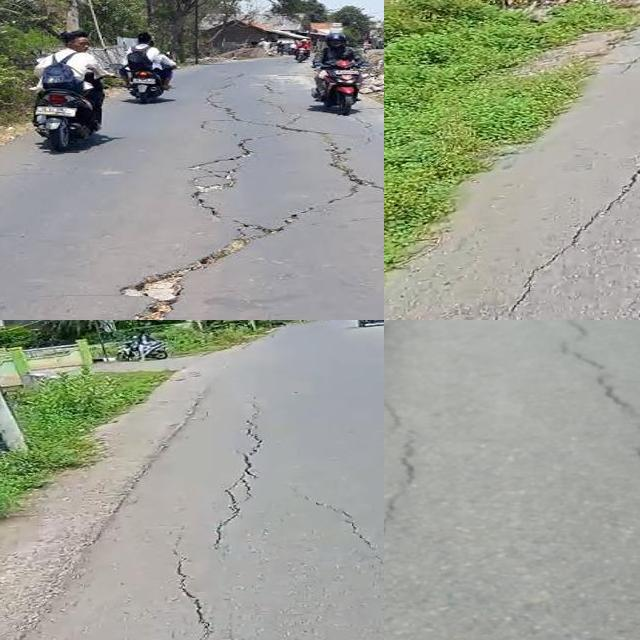Memanjang: (103, 175, 366, 320), (478, 142, 640, 320), (540, 320, 640, 478), (202, 398, 273, 566), (163, 538, 248, 640)
